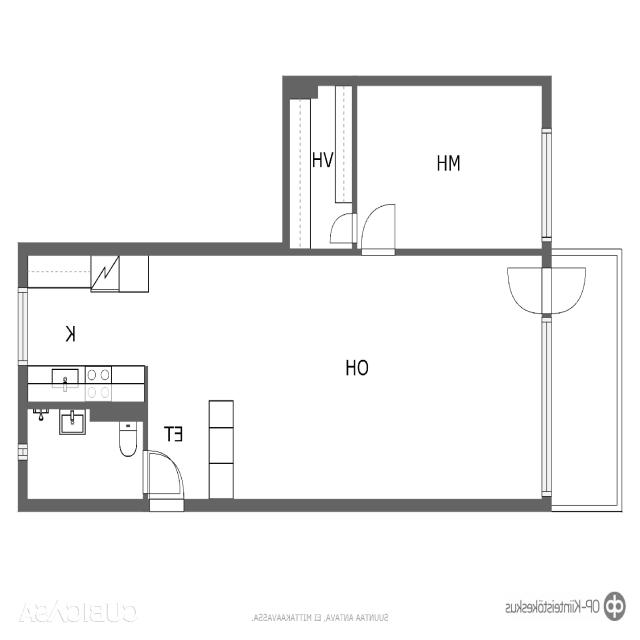door: (501, 255, 550, 315), (143, 444, 189, 505), (543, 257, 588, 315), (359, 199, 401, 255), (327, 210, 356, 244)
window: (536, 318, 557, 496), (536, 122, 557, 244), (15, 281, 31, 372), (15, 436, 30, 473)
zone: (147, 248, 549, 505), (347, 81, 552, 251), (21, 253, 146, 404), (22, 407, 147, 507), (288, 84, 354, 248), (142, 443, 190, 503)
